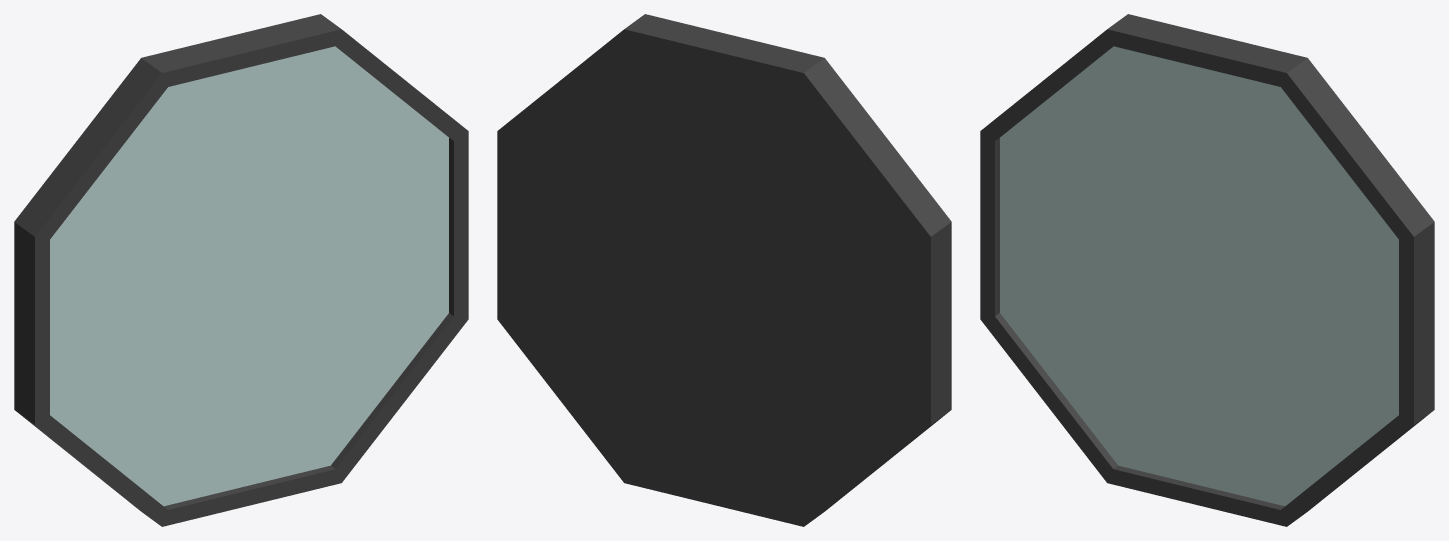
File: Mirror_03_C2.fbx
The picture shows the model from 3 angles, left to right: view 1: azimuth 30°, elevation 25°; view 2: azimuth 150°, elevation 25°; view 3: azimuth 330°, elevation 25°; orthographic projection.
Visible parts, largest first — view 1: Mirror_03_C2; view 2: Mirror_03_C2; view 3: Mirror_03_C2.
Part boxes in pixels (x1,y1,x2,y2): Mirror_03_C2: (14,14,468,526); Mirror_03_C2: (497,14,951,526); Mirror_03_C2: (980,14,1434,526).
Size of the model in its own units: 60 by 60 by 5.
